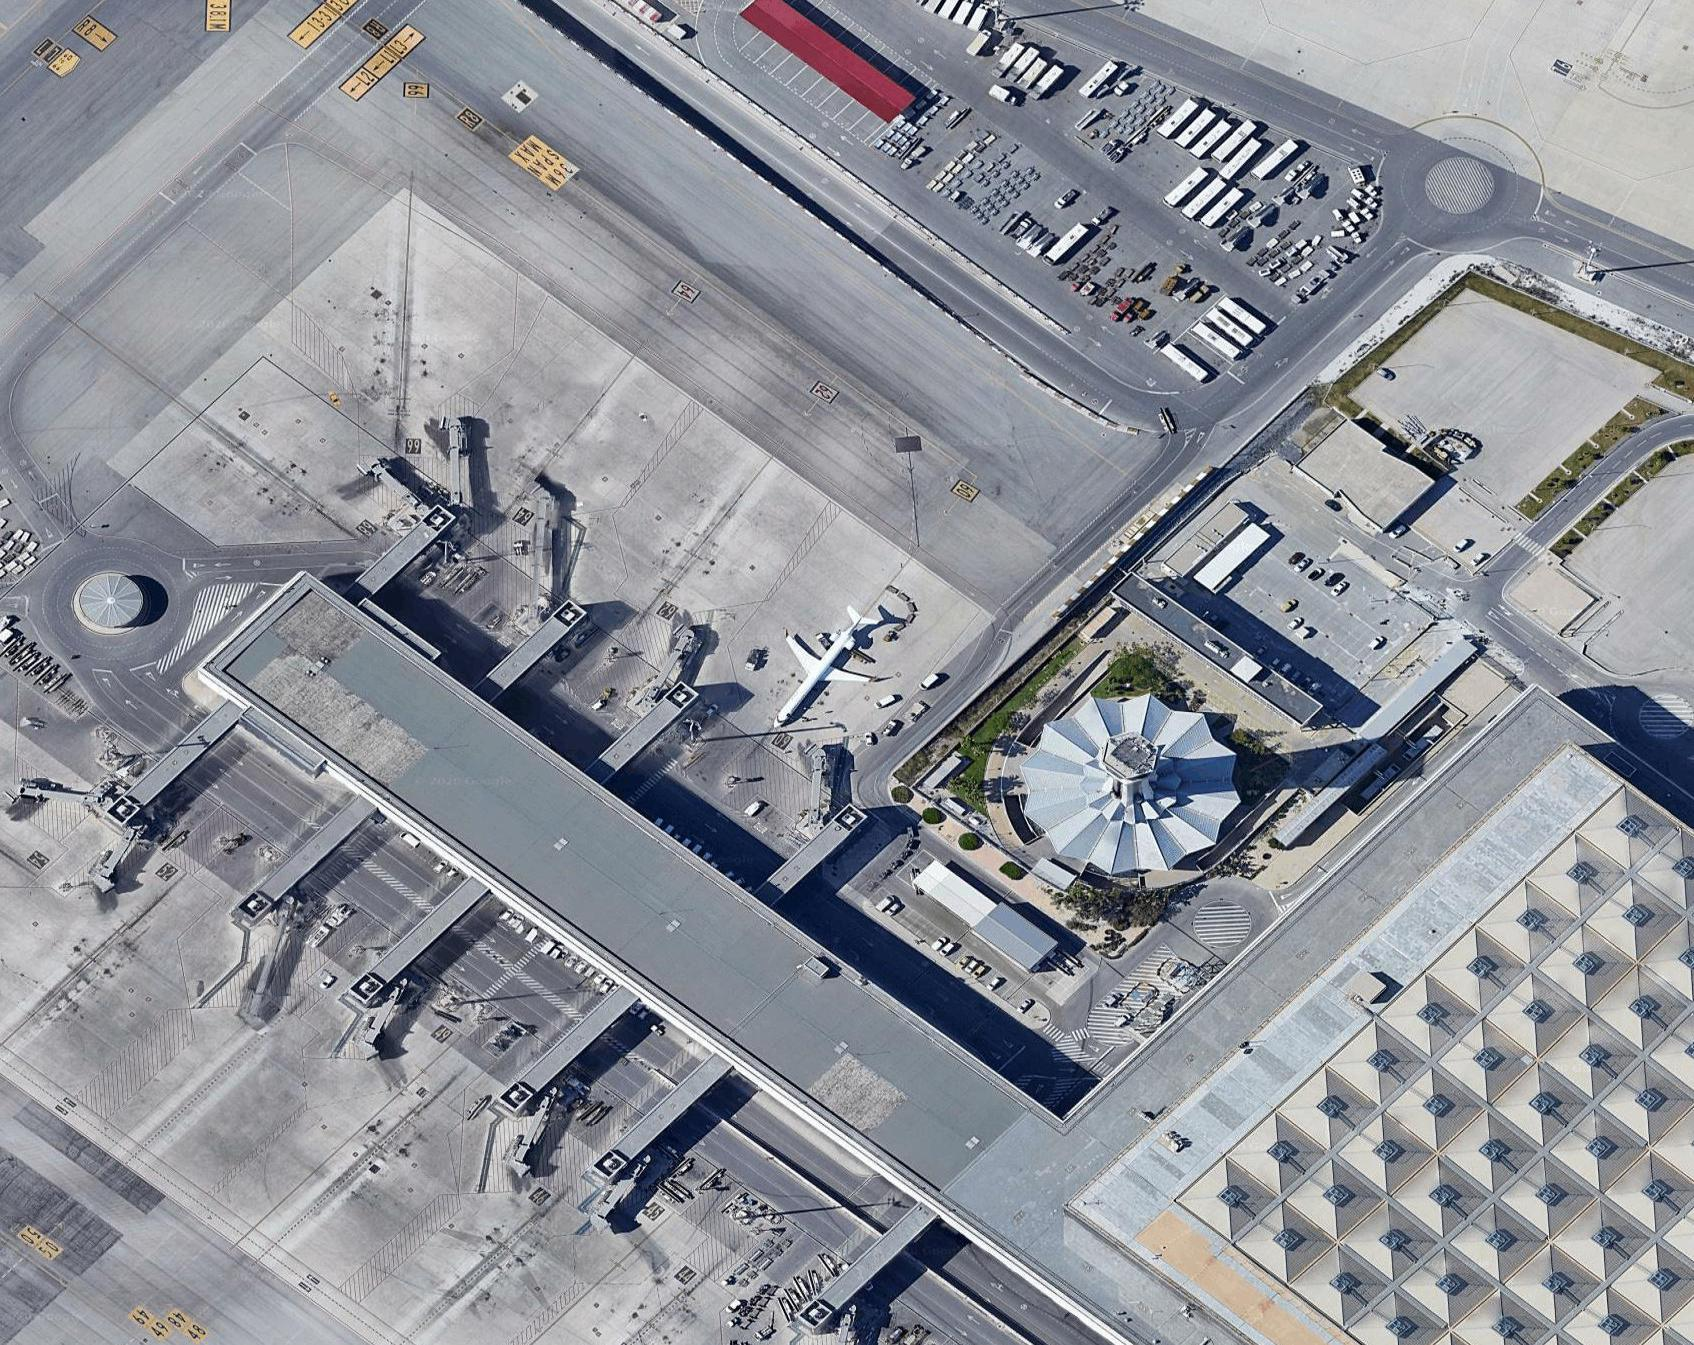plane: (730, 578, 914, 756)
